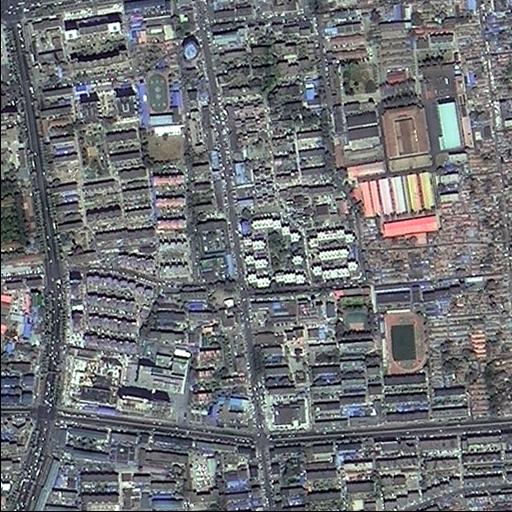school: (376, 303, 432, 377), (135, 64, 185, 130), (337, 287, 375, 339)
